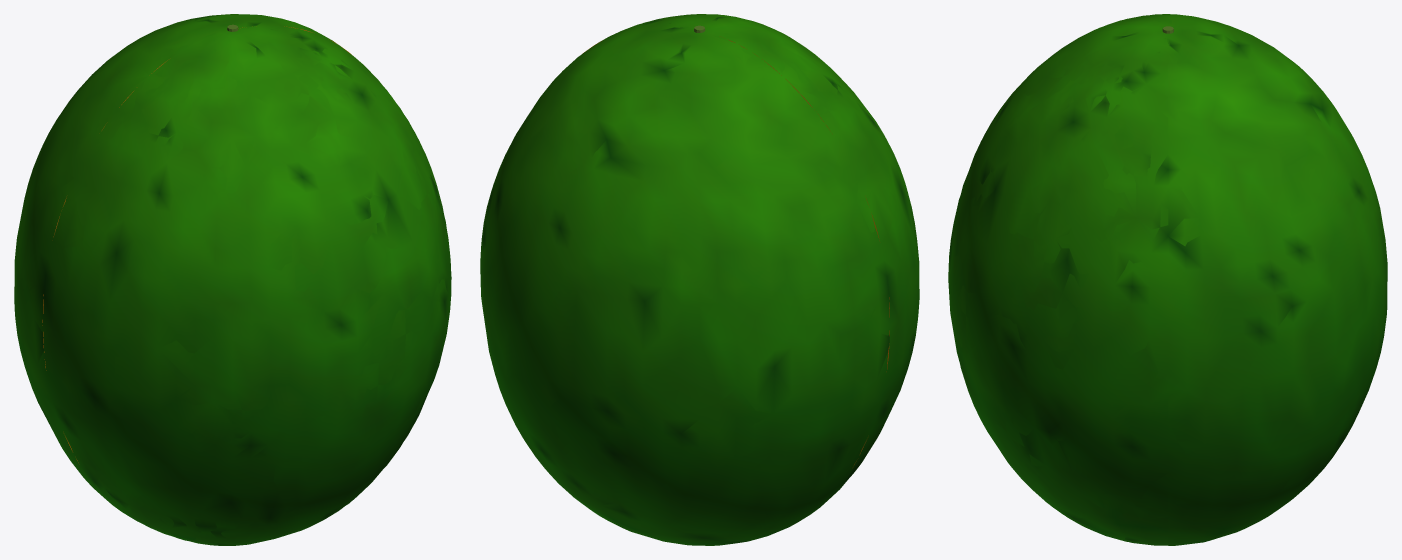
File: citron-vert.glb
The picture shows the model from 3 angles, left to right: view 1: azimuth 30°, elevation 25°; view 2: azimuth 150°, elevation 25°; view 3: azimuth 270°, elevation 25°; orthographic projection.
Visible parts, largest first — view 1: entier_peau, moitie_B_peau, moitie_A_peau; view 2: entier_peau, moitie_A_peau, moitie_B_peau; view 3: entier_peau, moitie_B_peau, moitie_A_peau.
Part boxes in pixels (x1,y1,x2,y2): entier_peau: (14,14,451,545); moitie_B_peau: (42,25,451,545); moitie_A_peau: (14,14,330,468); entier_peau: (480,14,919,545); moitie_A_peau: (480,26,889,545); moitie_B_peau: (597,14,919,497); entier_peau: (948,14,1387,545); moitie_B_peau: (948,14,1168,545); moitie_A_peau: (1168,14,1387,545).
Bounding box in the file's own units: 1.6 × 2.01 × 1.6.
